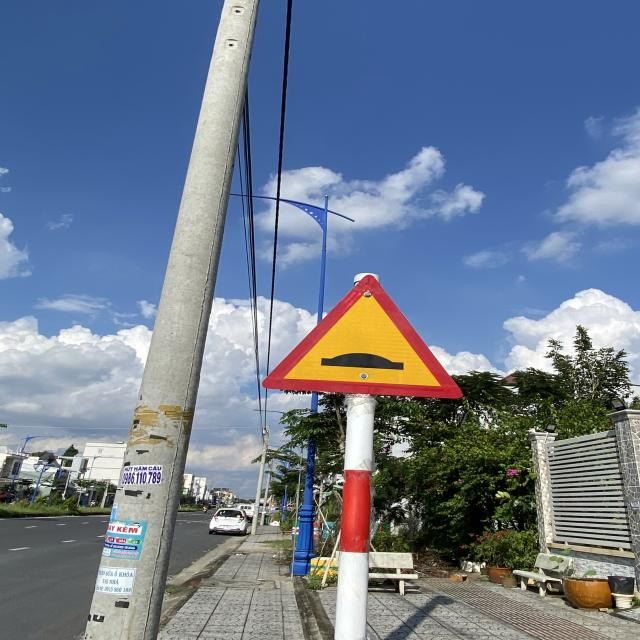Duong_Cong_Ben_Phai: (258, 274, 464, 398)
